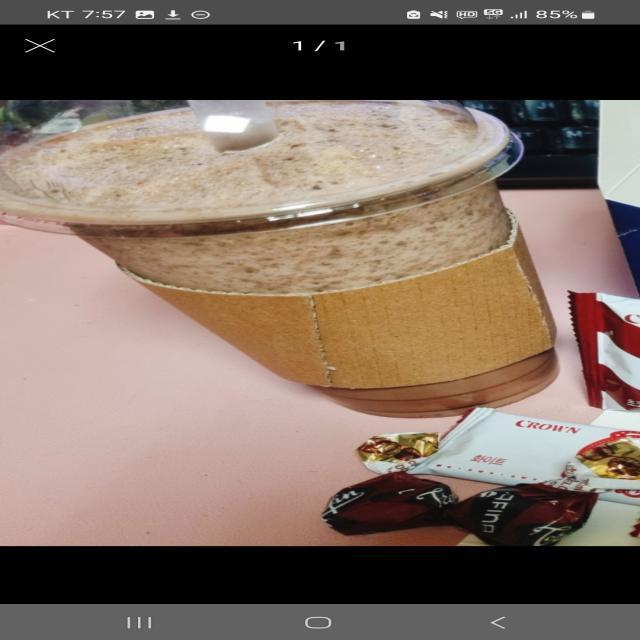cup: (0, 100, 640, 418)
